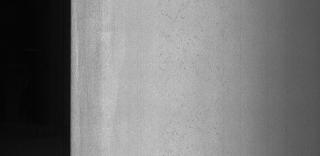silk spot: (150, 2, 230, 150)
